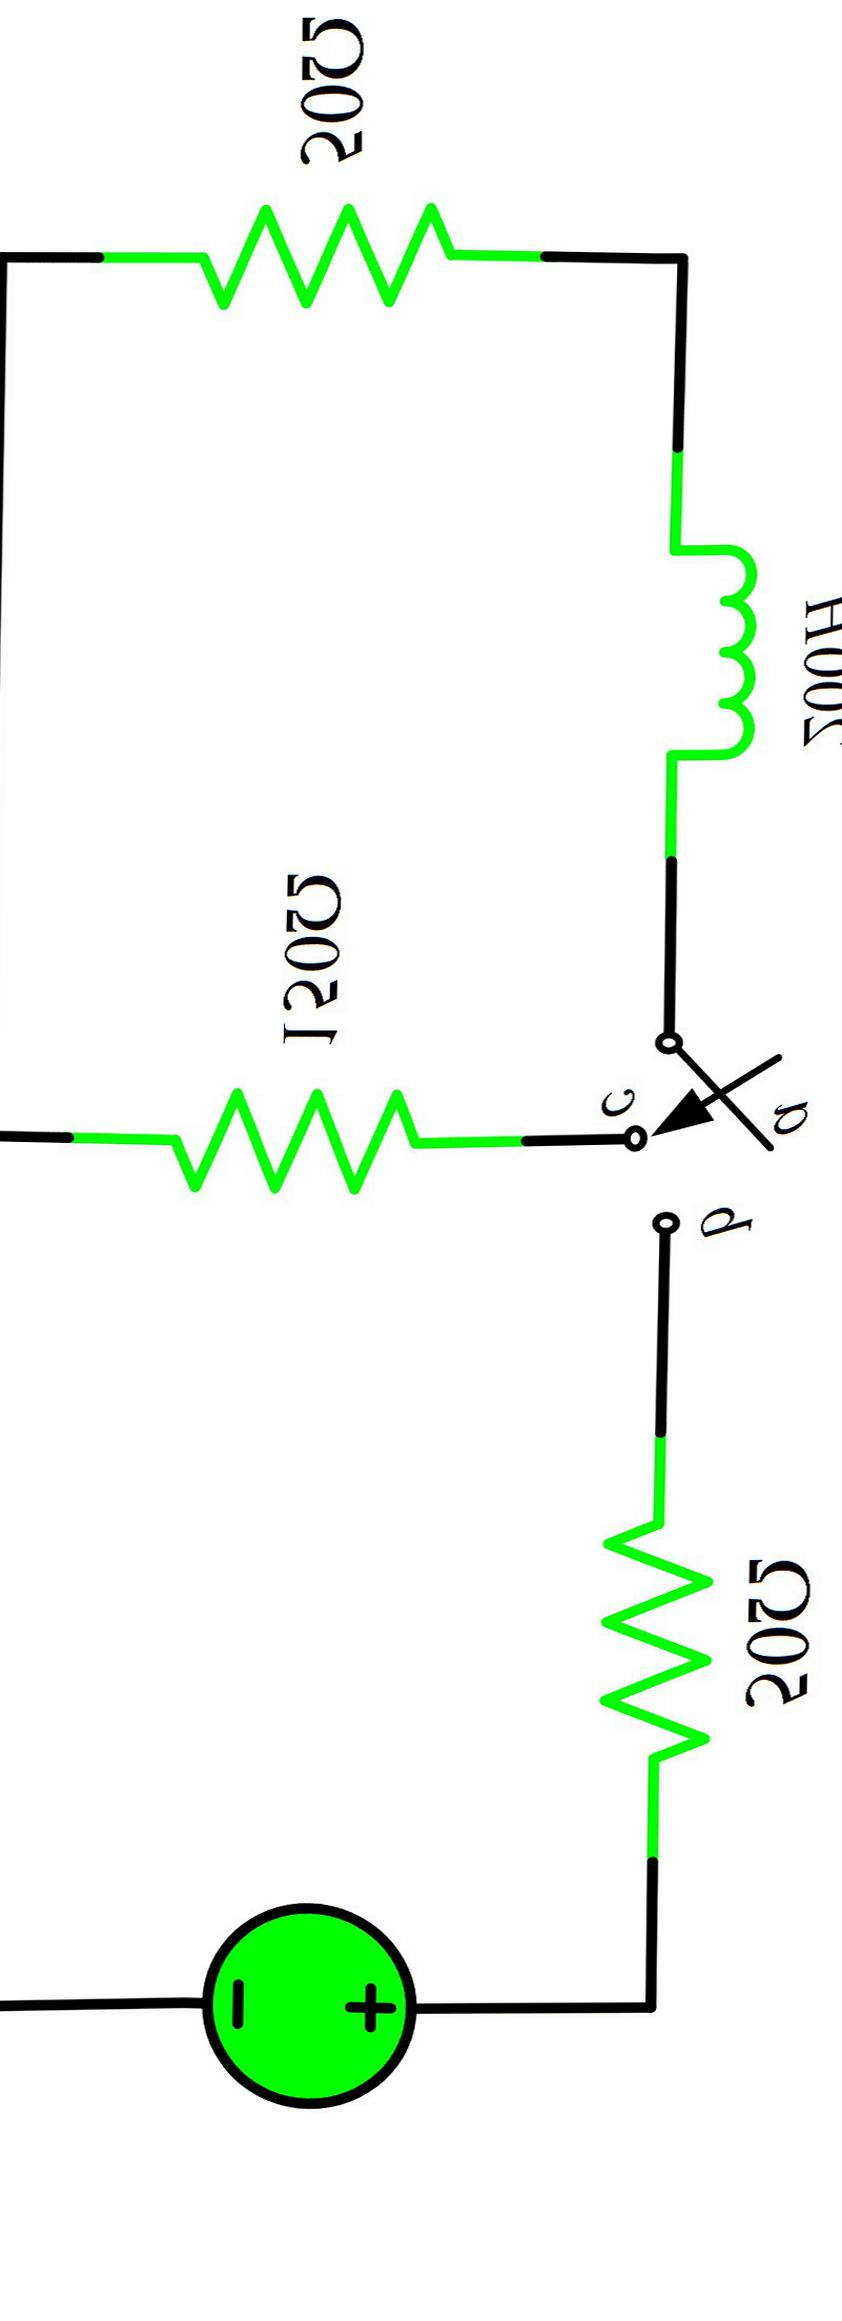Battery: (149, 1830, 471, 2200)
